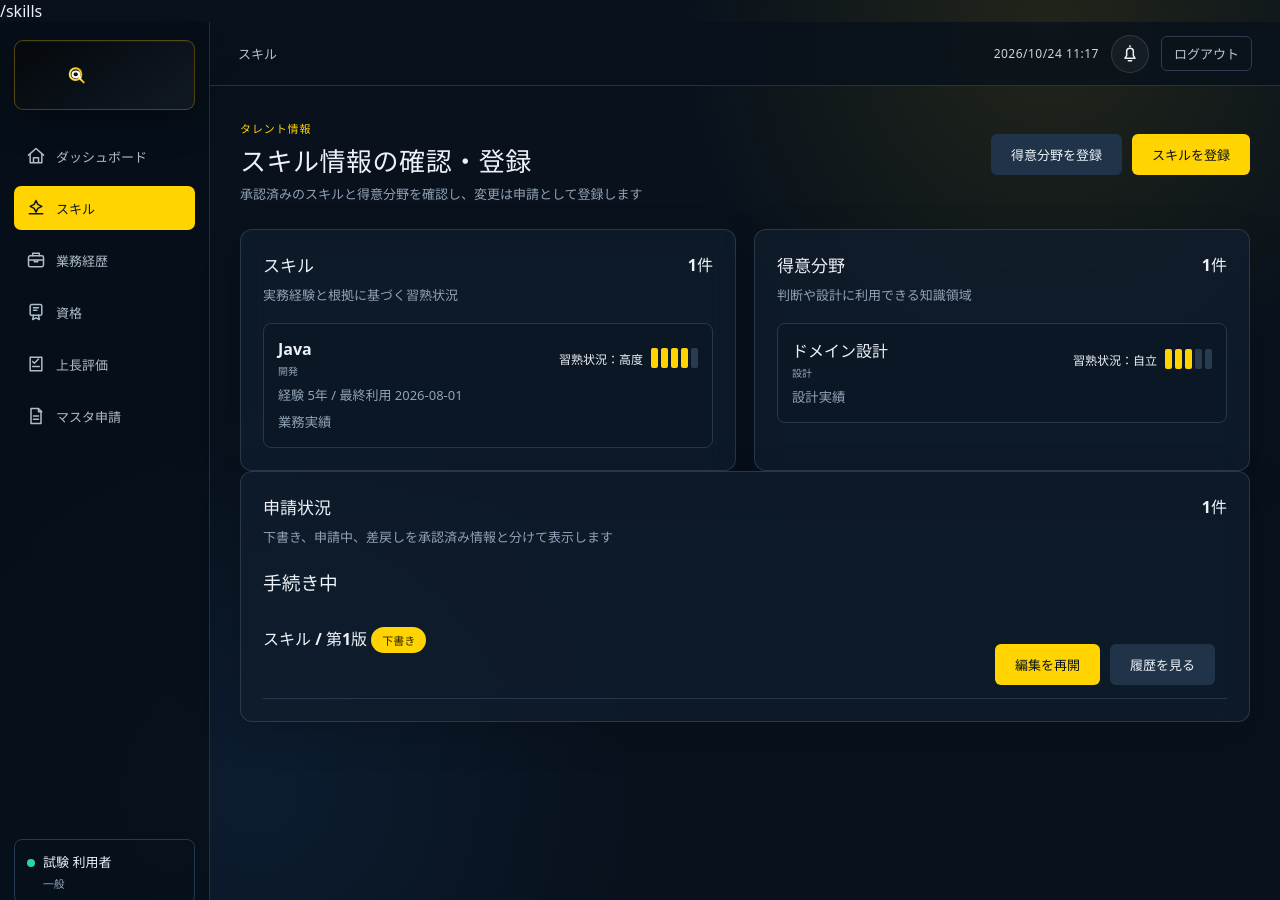
Test: タレント情報の種類別ルート › 既存下書きの再開リンクから編集routeへ移動して同じ申請を読み込む
Click the link "編集を再開". click: (1048, 665)
box: [995,644,1100,685]
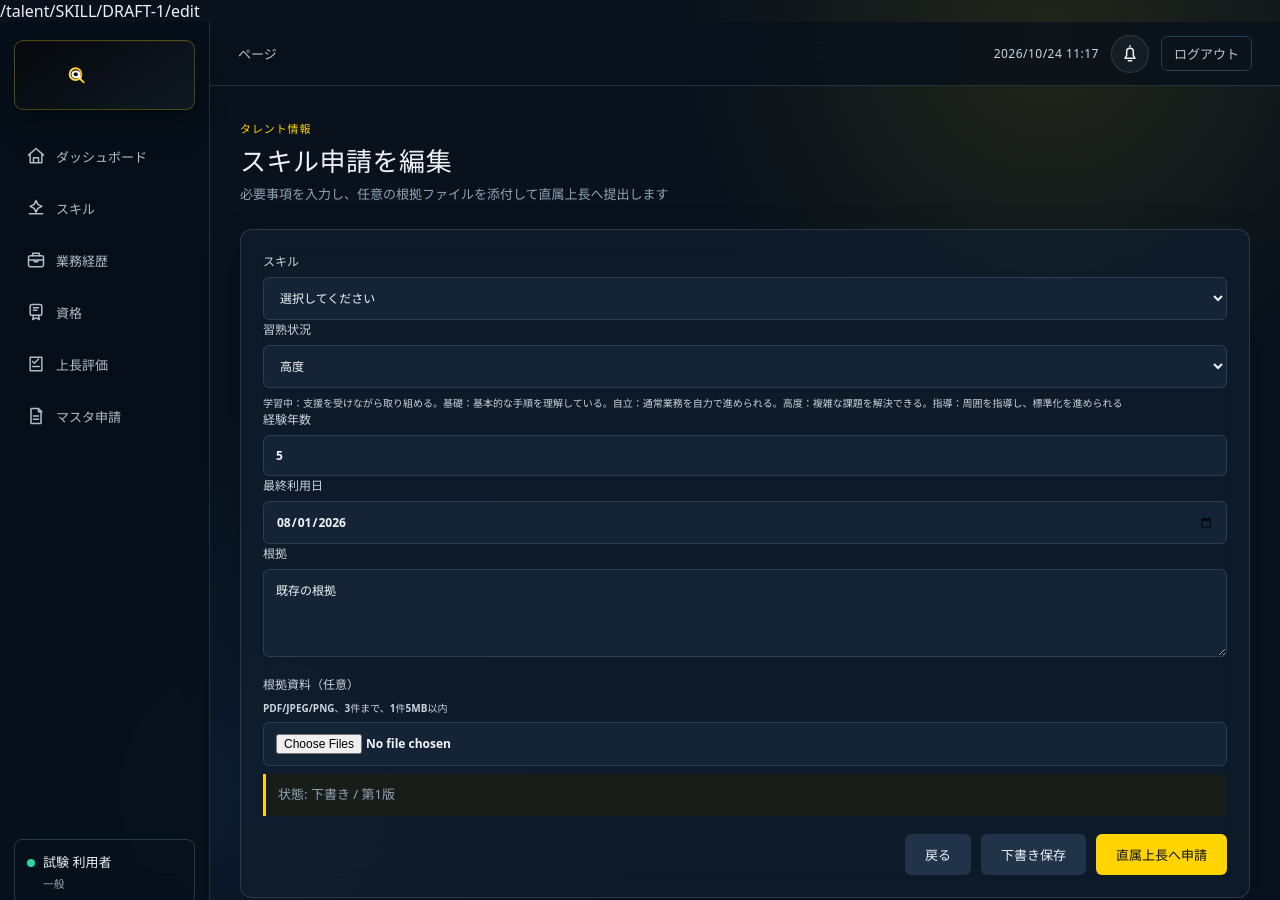
Expected: the text with test id "current-path" reads "/talent/SKILL/DRAFT-1/edit", [0,0,200,22]
Expected: the text box showing "既存の根拠" is shown, [263,569,1227,657]
